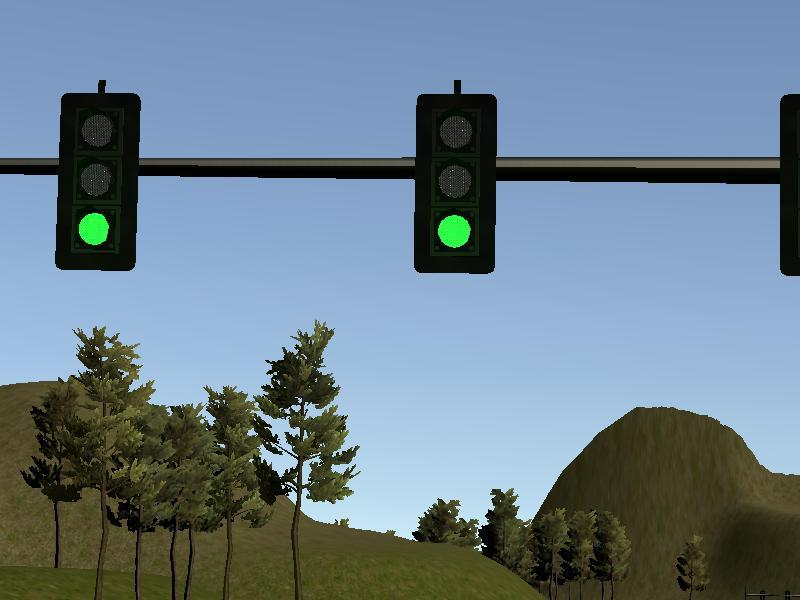Green: (62, 95, 135, 266), (418, 97, 489, 271)
